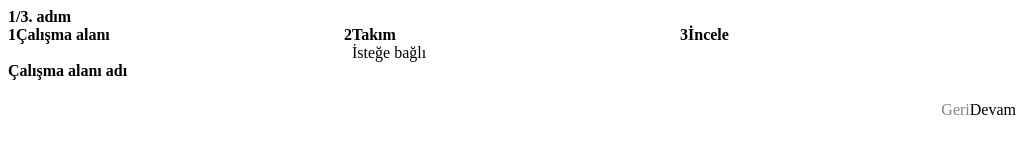
Test case: Wizard › exposes progress and preserves product-owned values when navigating back
The width and height of the screenshot is (1024, 160).
Check: the navigation bar named "Kurulum adımları" is shown, box [8,8,1016,62]
Check: the text "1/3. adım" is shown, box [8,8,71,25]
Step 1. Type "Kaiwen Agent" into the field labelled "Çalışma alanı adı" → (512, 90), box [8,80,1016,100]
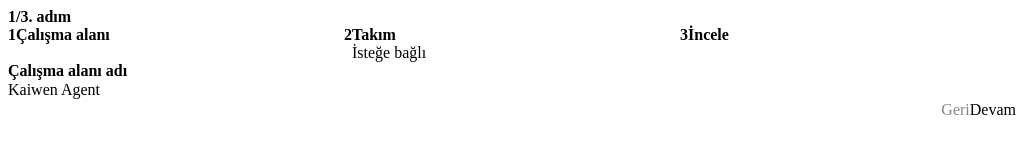
Step 2. Click the button "Devam" → (993, 110), box [970,100,1016,120]
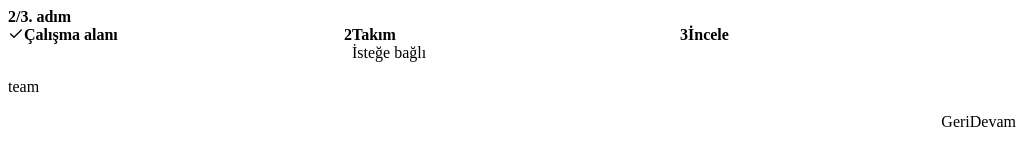
Check: the text "2/3. adım" is shown, box [8,8,71,25]
Check: the button named "Çalışma alanı Tamamlandı" is enabled, box [8,26,344,62]
Step 3. Click the button "Geri" → (956, 122), box [941,112,970,132]
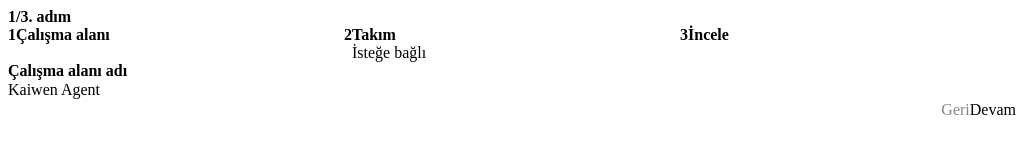
Check: the field labelled "Çalışma alanı adı" holds "Kaiwen Agent", box [8,80,1016,100]
